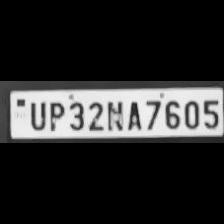0: (180, 97, 200, 129)
2: (86, 98, 104, 132)
3: (65, 99, 84, 130)
5: (201, 96, 221, 130)
6: (162, 97, 180, 129)
7: (142, 97, 160, 130)
A: (124, 98, 140, 130)
N: (105, 98, 123, 132)
P: (46, 99, 64, 131)
U: (26, 99, 46, 129)
